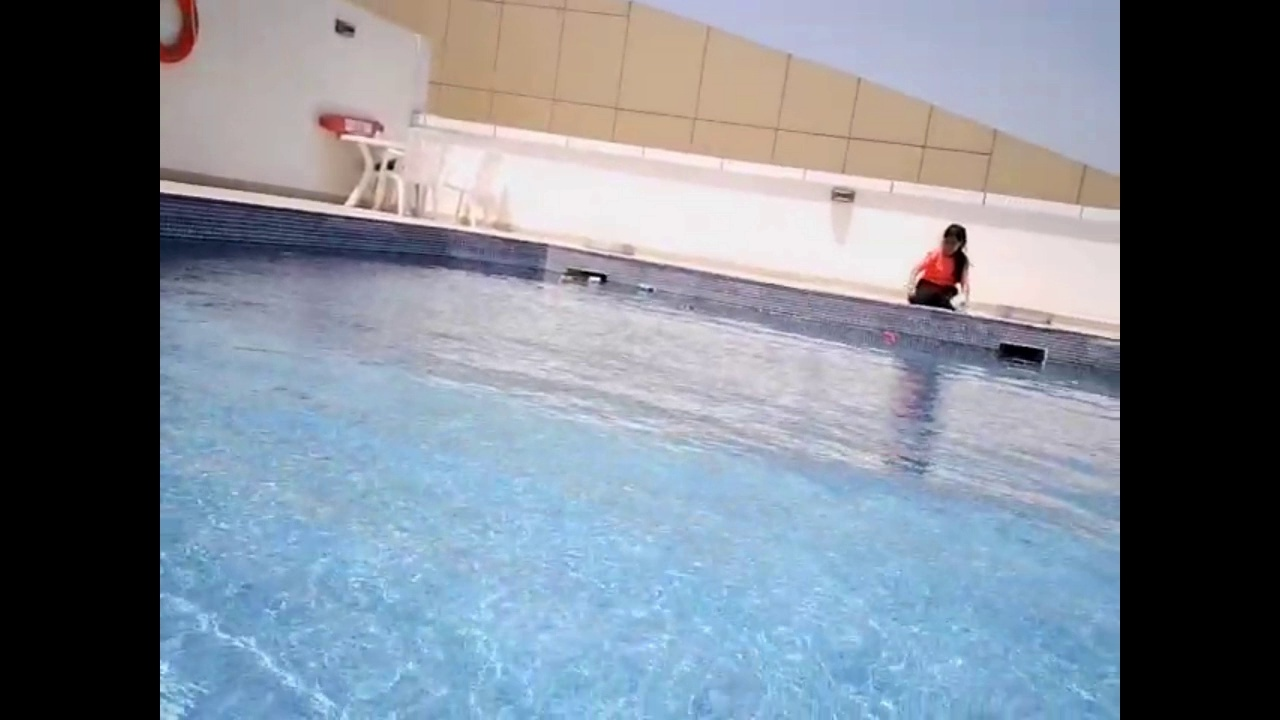debris: (881, 325, 904, 347), (582, 269, 605, 290), (634, 280, 659, 299), (557, 271, 574, 285), (678, 301, 695, 313)
